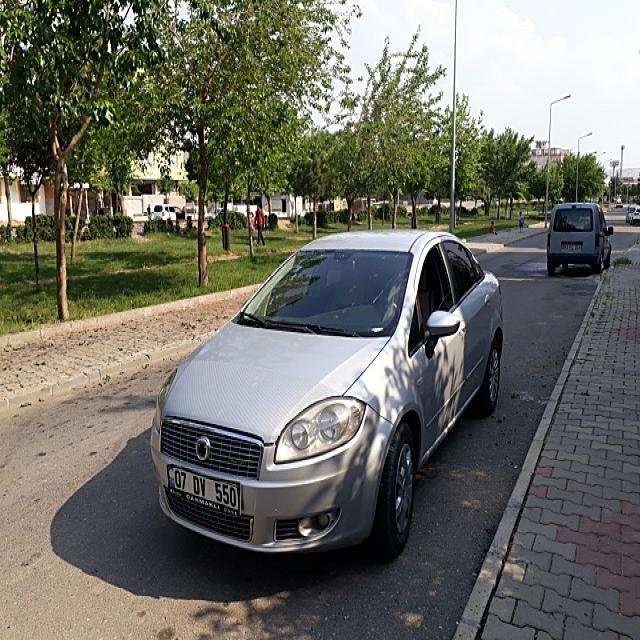plate: (166, 465, 242, 513), (562, 243, 585, 251)
